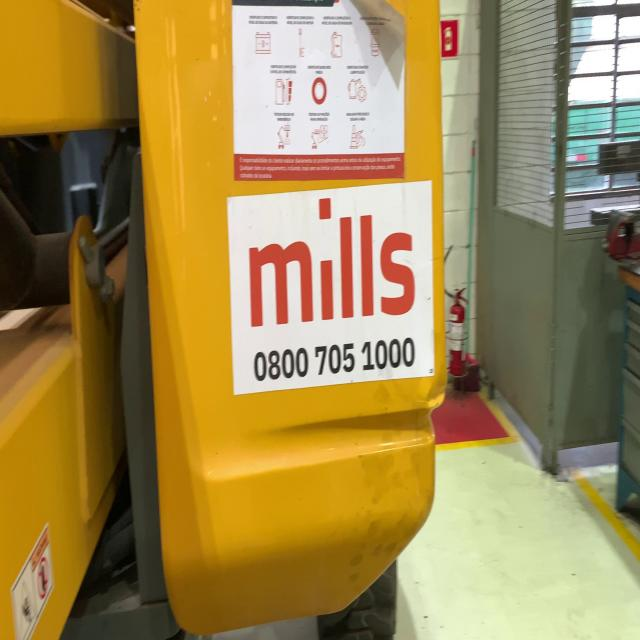Adesivos: (223, 176, 437, 401)
